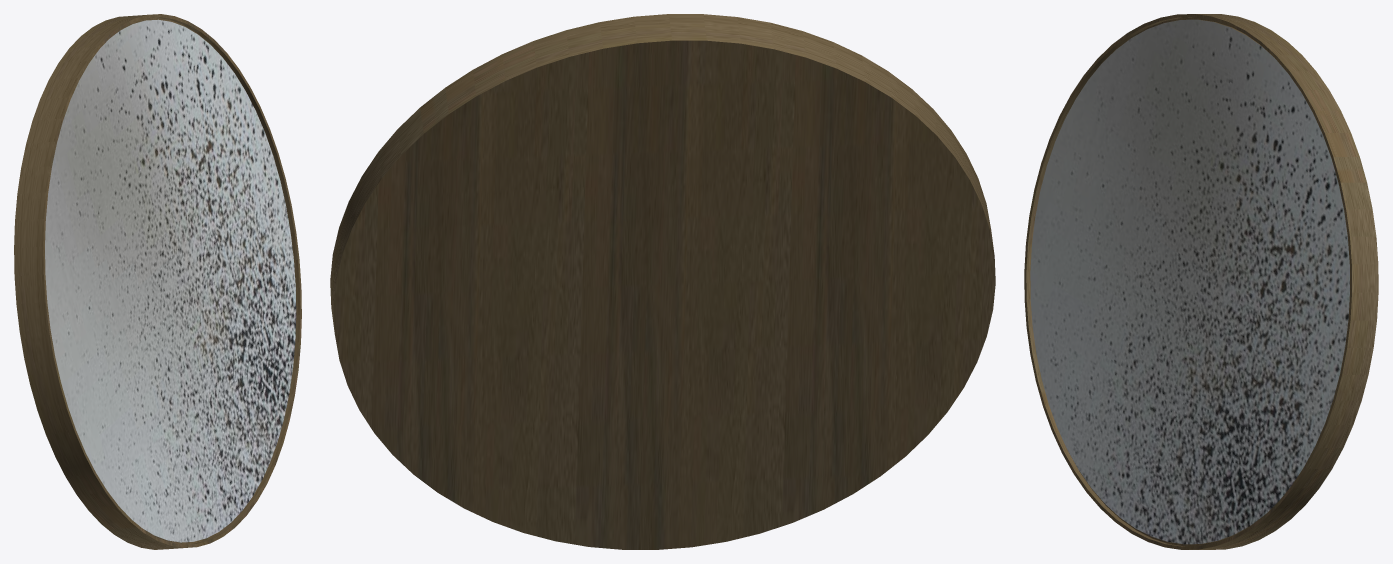
Rendered from New_Clear_Wall_Mirror-Small.glb.
The picture shows the model from 3 angles, left to right: view 1: azimuth 30°, elevation 25°; view 2: azimuth 150°, elevation 25°; view 3: azimuth 270°, elevation 25°; orthographic projection. The views are drawn at different scales.
Visible parts, largest first — view 1: model 13; view 2: model 13; view 3: model 13.
Boxes of the visible parts, <box> form: model 13: <box>14,14,301,549</box>; model 13: <box>330,14,995,549</box>; model 13: <box>1024,14,1378,549</box>.
Bounding box in the file's own units: 0.416 × 0.4714 × 0.317.
Materials: 2 (2 with a texture image).
